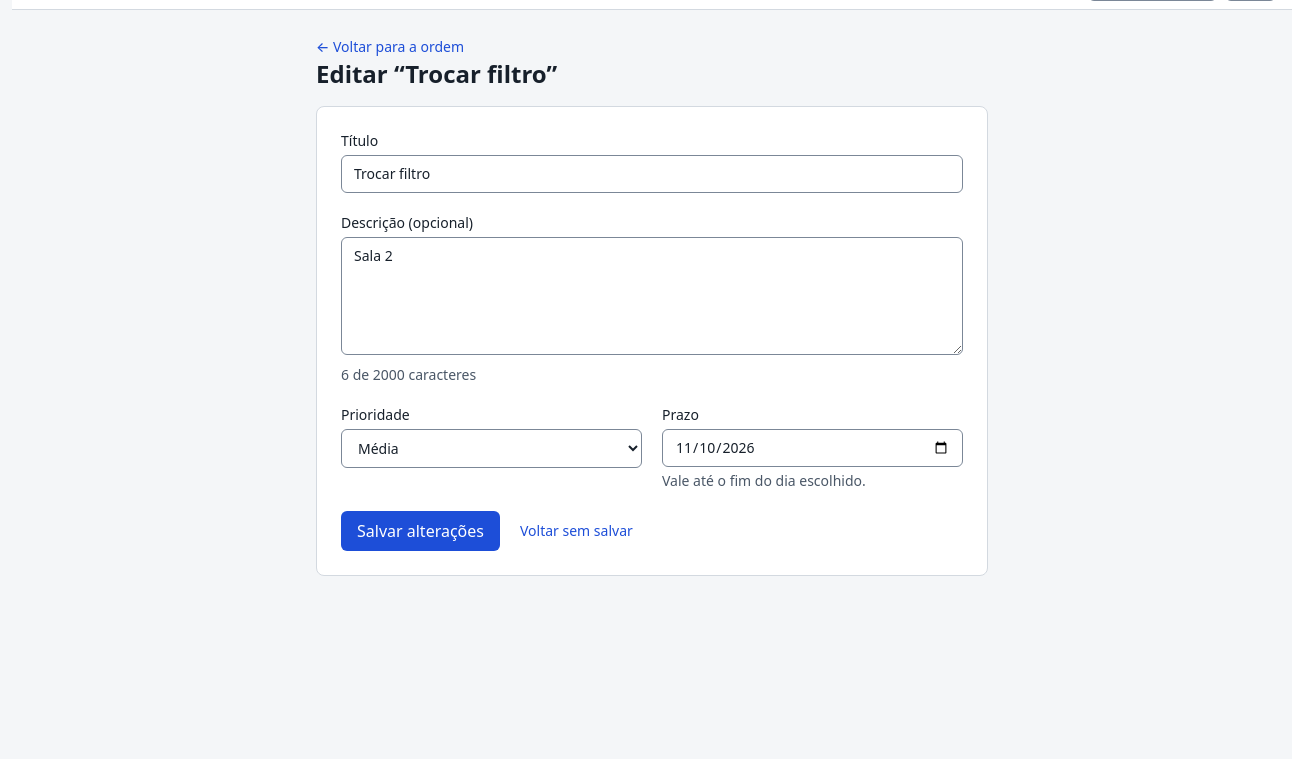
Test: Editar ordem (/orders/:id/edit) › 409 ao salvar mostra a mensagem pelo code e mantém o que foi digitado
The image size is (1292, 759).
Expected: the button "Salvar alterações" is shown, [341,511,500,551]
Replace the text in the field labelled "Título" with "Meu texto novo". click: x=652, y=174
box: [341,155,963,193]
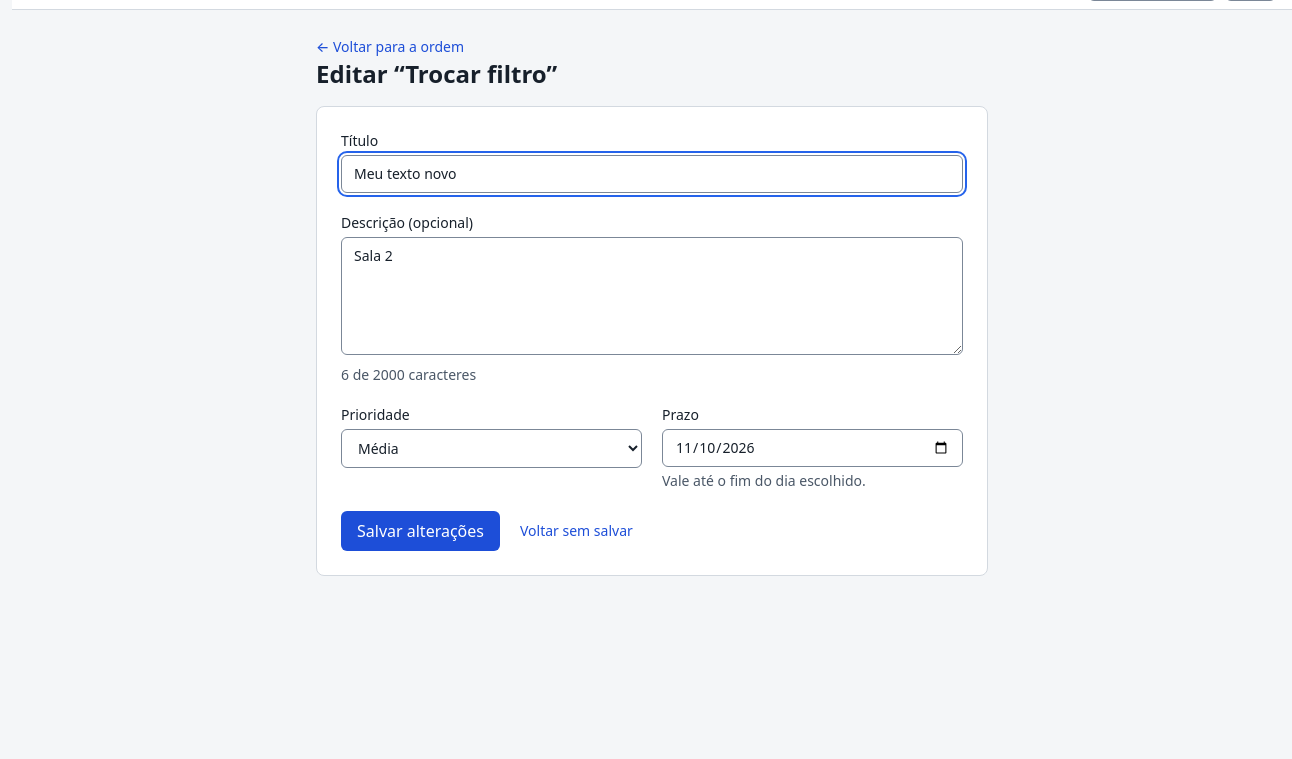
Click the button "Salvar alterações". click: x=420, y=531
box: [341,511,500,551]
(page scrolled)
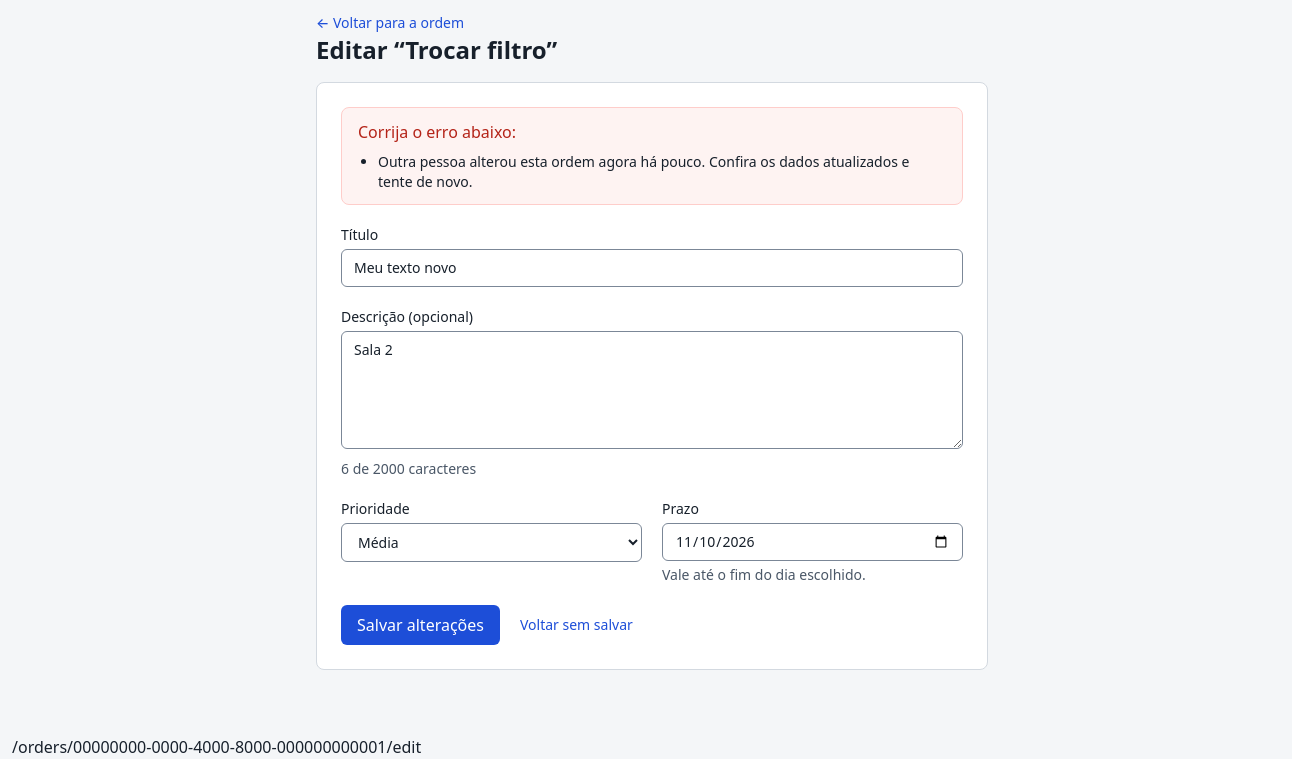
Now the list item "Outra pessoa alterou esta ordem agora há pouco. Confira os dados atualizados e tente de novo." is shown, box [378,152,910,191]
